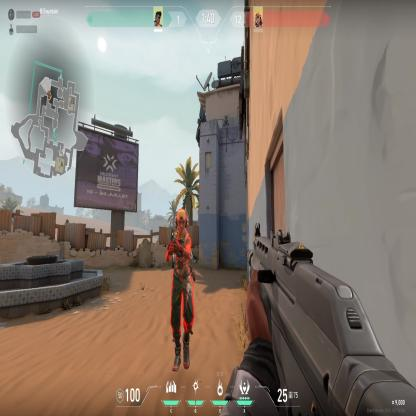enemy: (165, 206, 196, 372)
